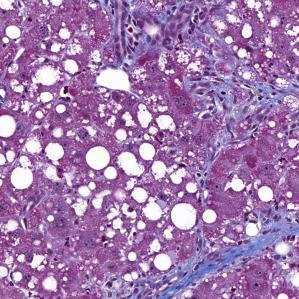fibrosis: (107, 0, 221, 66), (180, 225, 285, 292), (181, 73, 276, 141)
